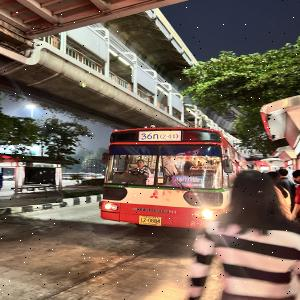BMTA-bus: (99, 127, 255, 230)
Bus Line Number: (138, 130, 183, 143)
Bus Side Number: (188, 219, 212, 228)
Destination Sign: (172, 175, 206, 188)
